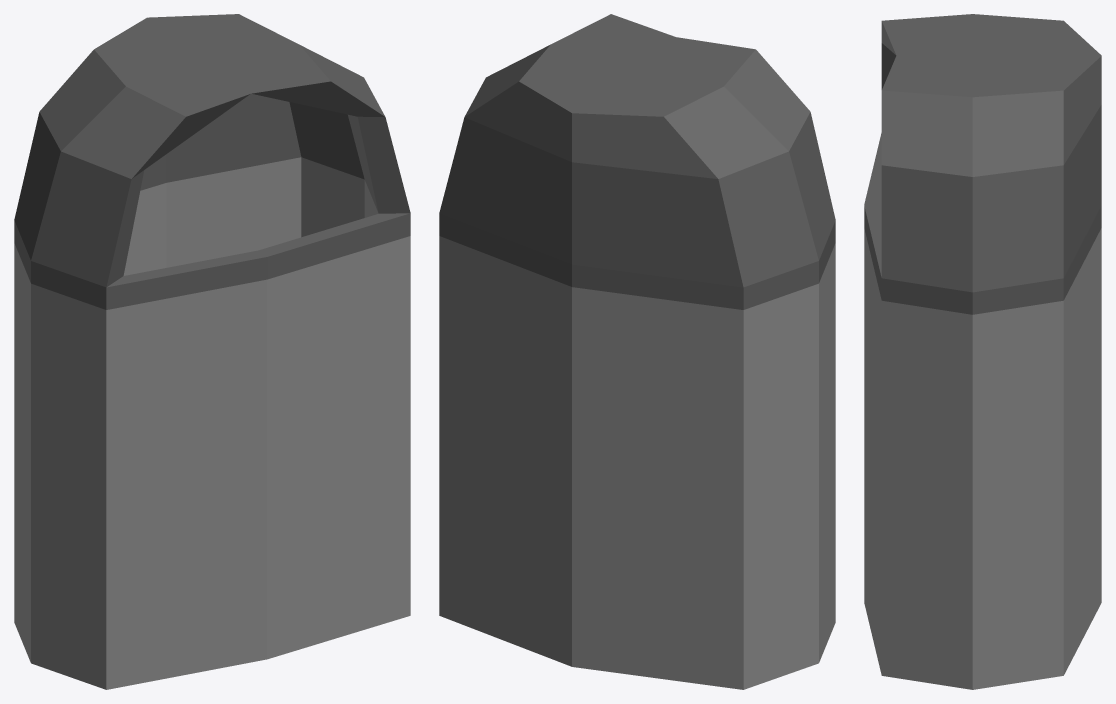
Rendered from Bedroom_Prop_TrashCan.fbx.
3 renders of one model, left to right at view 1: azimuth 30°, elevation 25°; view 2: azimuth 150°, elevation 25°; view 3: azimuth 270°, elevation 25°, orthographic.
Visible parts, largest first — view 1: Cube.010; view 2: Cube.010; view 3: Cube.010.
Part boxes in pixels (x1,y1,x2,y2): Cube.010: (14,14,410,689); Cube.010: (439,14,835,689); Cube.010: (864,14,1101,689).
Bounding box in the file's own units: 162 × 237 × 93.21.
